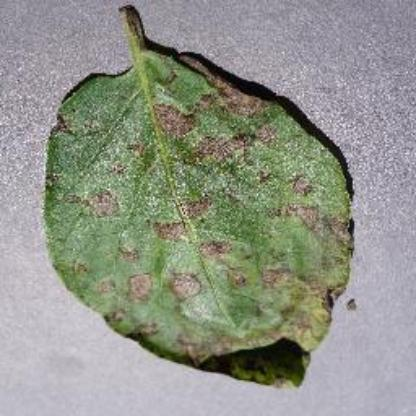Early-Blight: (46, 5, 360, 390)
